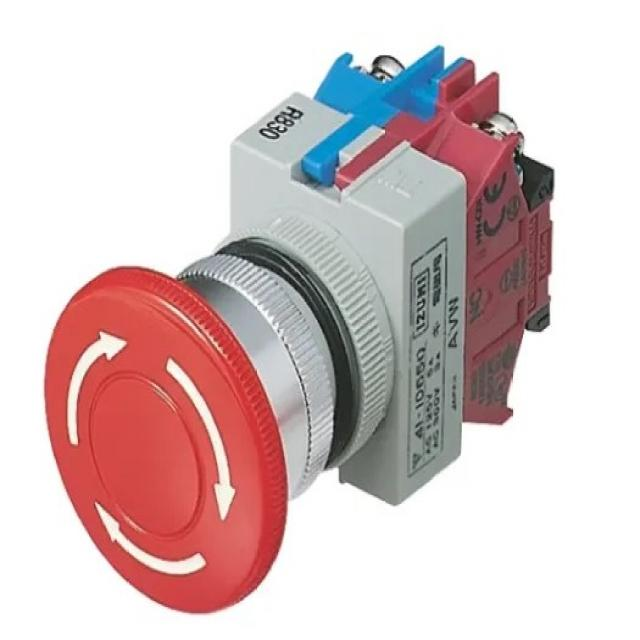safety switch: (47, 252, 339, 611)
